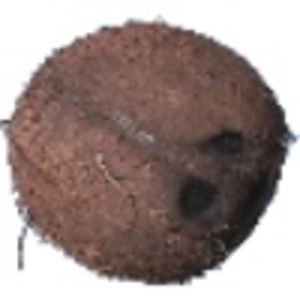coco: (3, 22, 300, 285)
